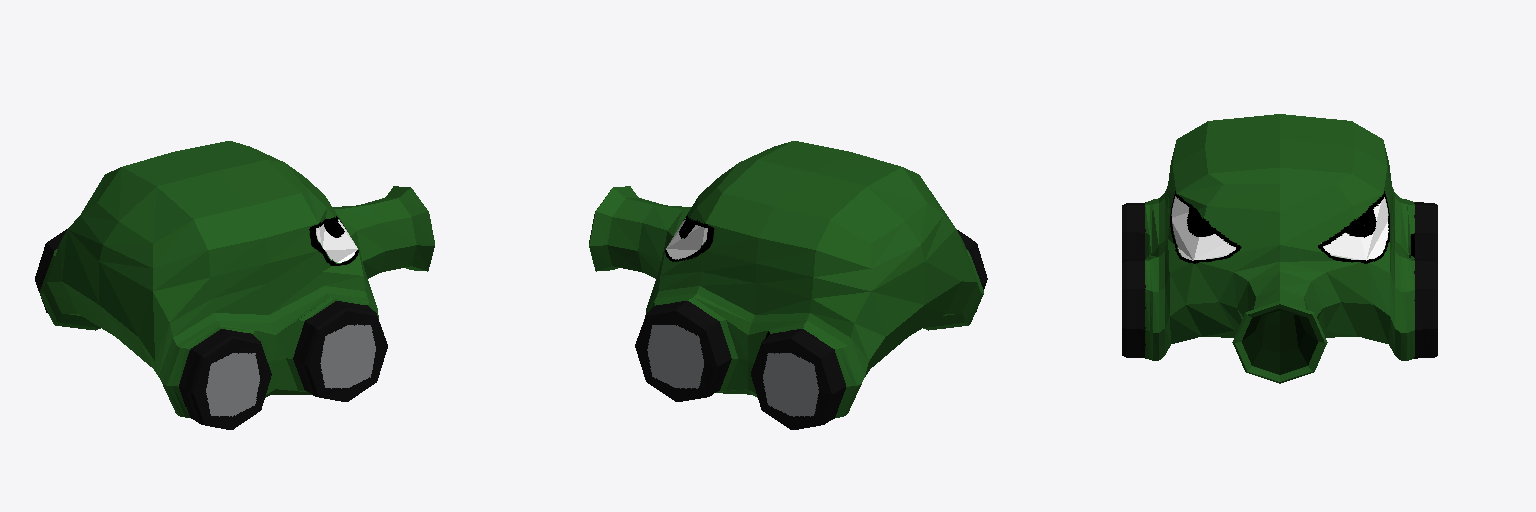
3 views of the same model, side by side, from view 1: azimuth 30°, elevation 25°; view 2: azimuth 150°, elevation 25°; view 3: azimuth 270°, elevation 25° (orthographic).
Parts seen in each view (by area): view 1: Cube; view 2: Cube; view 3: Cube.
Boxes of the visible parts, <box> form: Cube: <box>35,141,434,429</box>; Cube: <box>589,141,987,429</box>; Cube: <box>1122,114,1437,383</box>.
Size of the model in its own units: 2.72 by 1.57 by 2.38.
Materials: 1 (1 with a texture image).